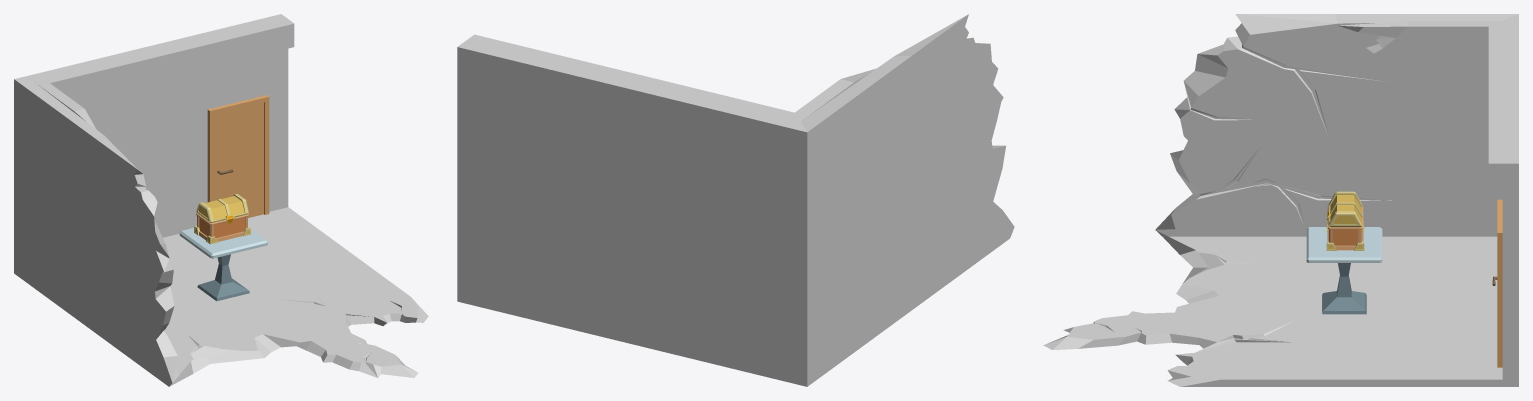
File: secret room.fbx
3 views of the same model, side by side, from view 1: azimuth 30°, elevation 25°; view 2: azimuth 150°, elevation 25°; view 3: azimuth 270°, elevation 25° (orthographic). The views are drawn at different scales.
Visible parts, largest first — view 1: wall_1, floor, wall_2, door, table, chest_1, chest_2; view 2: wall_1, floor, wall_2; view 3: wall_1, floor, wall_2, table, chest_1, door, chest_2.
Boxes of the visible parts, left/top/right/bottom form: wall_1: left=14, top=14, right=288, bottom=382; floor: left=14, top=207, right=428, bottom=386; wall_2: left=34, top=19, right=294, bottom=129; door: left=207, top=95, right=269, bottom=217; table: left=179, top=228, right=267, bottom=301; chest_1: left=196, top=194, right=248, bottom=222; chest_2: left=196, top=213, right=249, bottom=241; wall_1: left=457, top=14, right=1014, bottom=378; floor: left=457, top=227, right=1014, bottom=386; wall_2: left=467, top=34, right=876, bottom=121; wall_1: left=1155, top=14, right=1518, bottom=379; floor: left=1043, top=230, right=1518, bottom=386; wall_2: left=1338, top=21, right=1502, bottom=190; table: left=1306, top=227, right=1382, bottom=314; chest_1: left=1328, top=191, right=1362, bottom=227; door: left=1492, top=199, right=1502, bottom=367; chest_2: left=1327, top=206, right=1363, bottom=250.
Bounding box in the file's own units: 2186 × 1520 × 2935.
